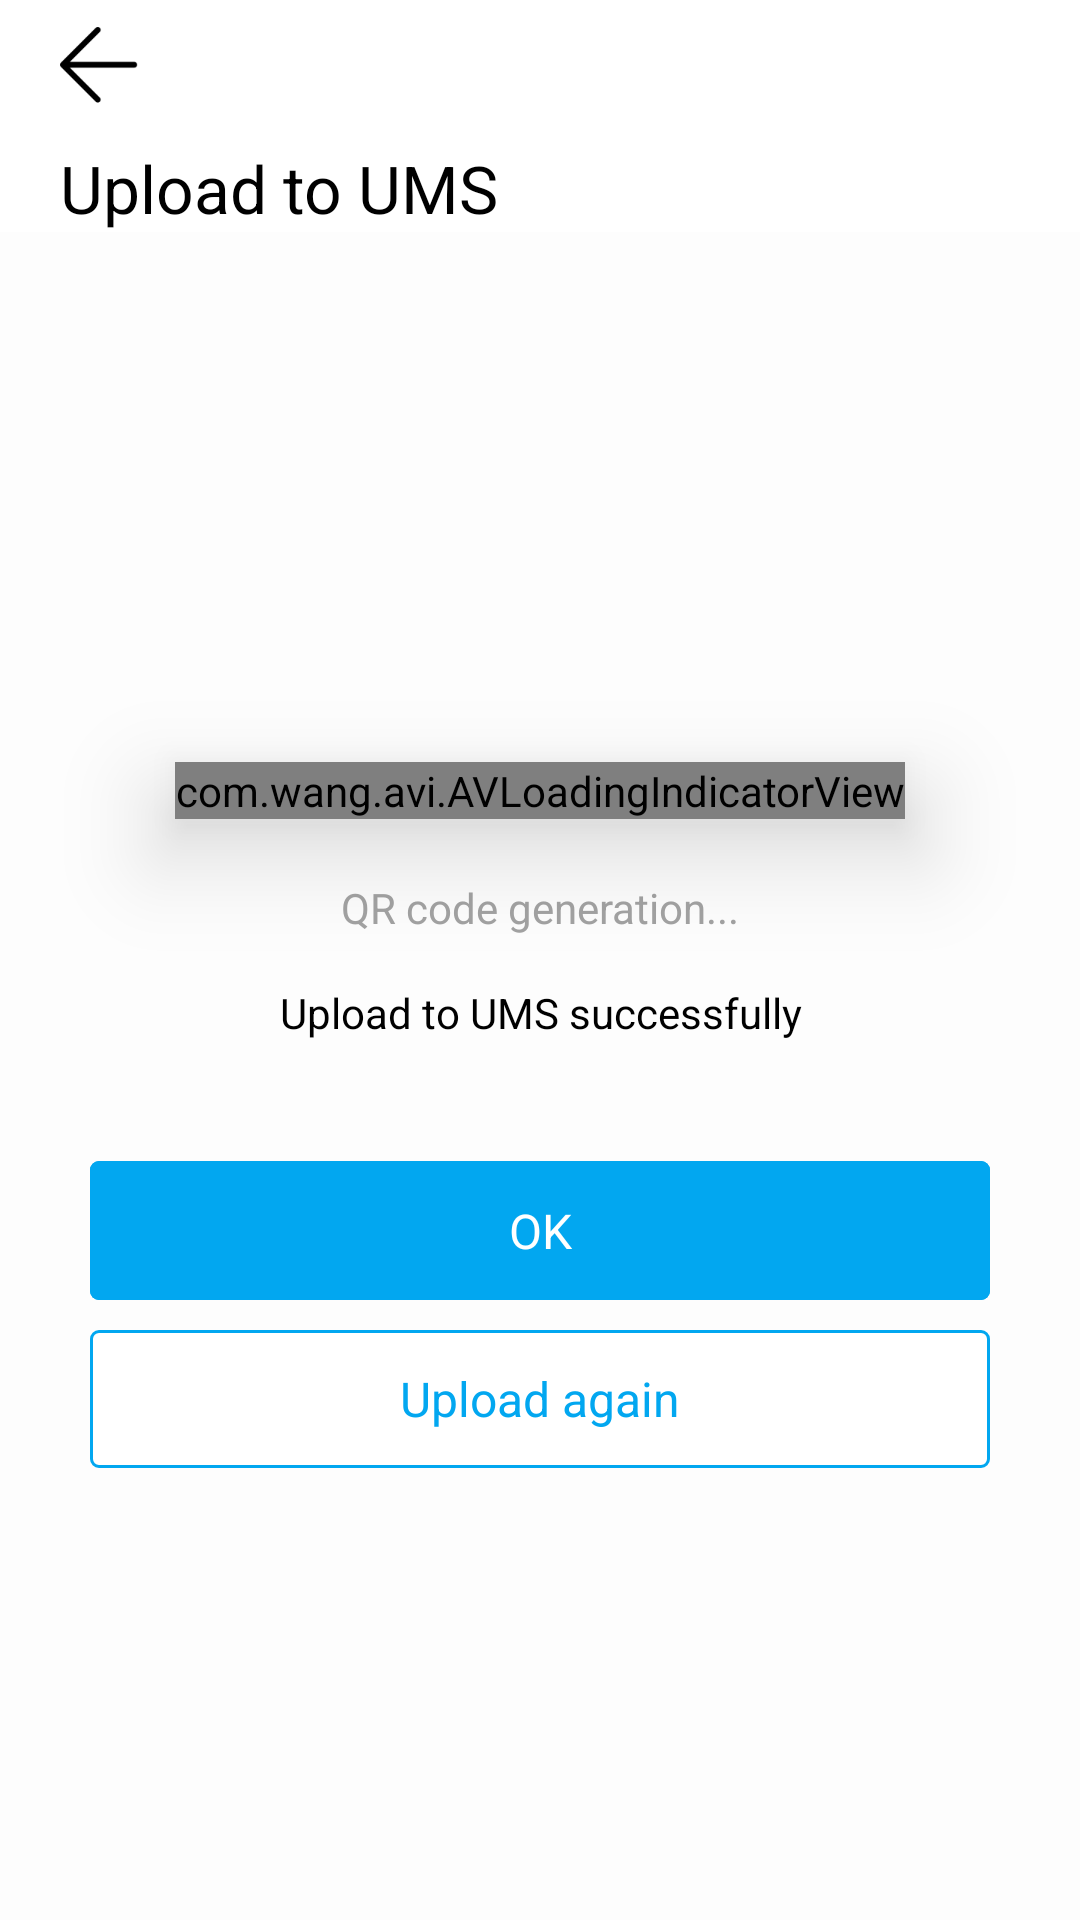

Where icons sit on this 1080x1920 app screen, as rect(x1, y1, x2, y2):
return: rect(60, 27, 138, 103)
